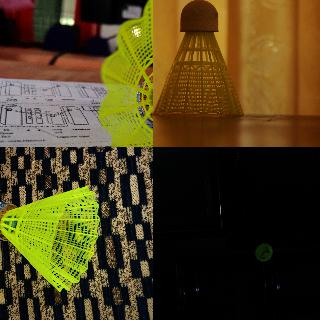shuttlecock: (0, 186, 100, 292), (153, 0, 243, 115), (99, 0, 152, 146), (254, 243, 272, 261)
